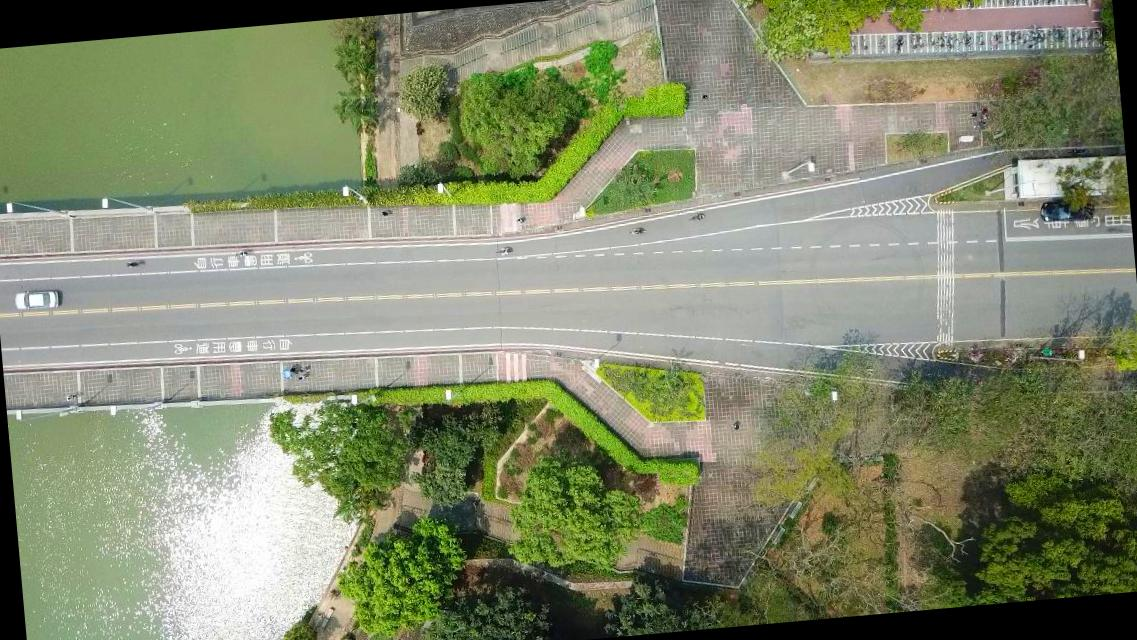vehicle: (1038, 197, 1094, 226), (14, 288, 59, 312)
